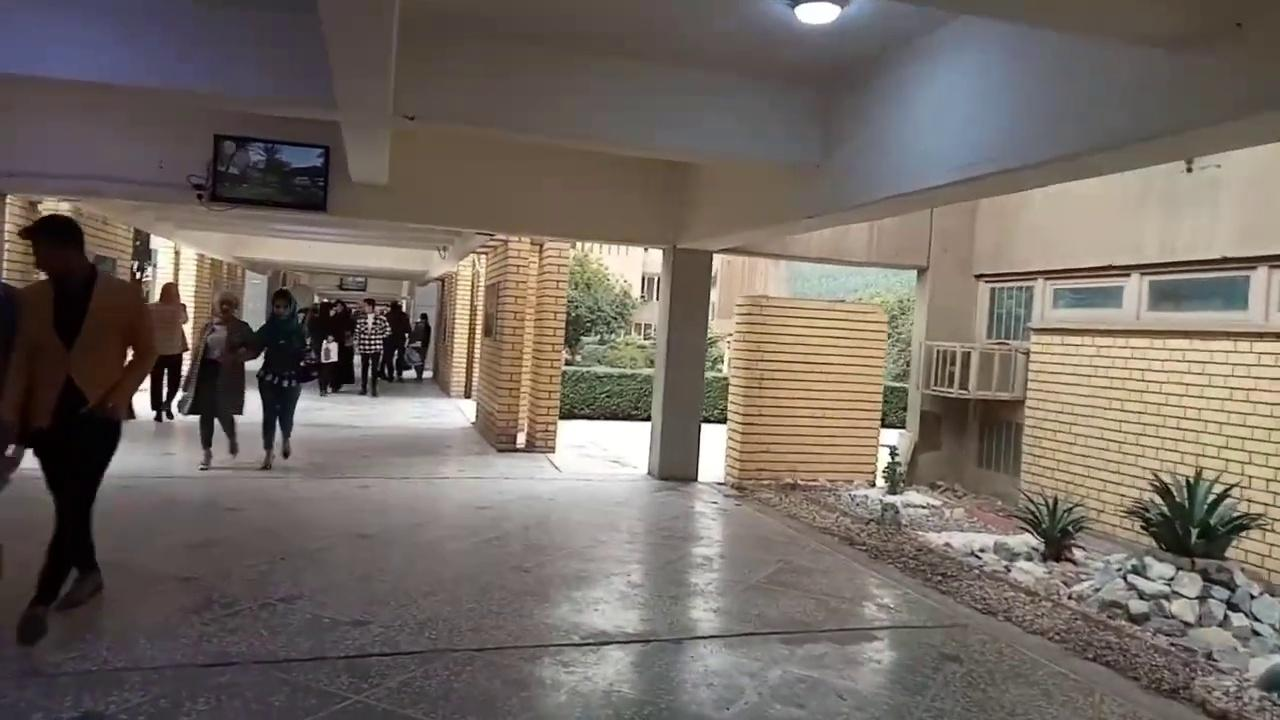person: (0, 212, 159, 646), (178, 289, 256, 470), (234, 287, 308, 470), (145, 282, 189, 422), (408, 312, 431, 381)
tree: (1119, 465, 1269, 563), (853, 282, 916, 428), (565, 247, 637, 357), (1008, 484, 1089, 562), (701, 327, 728, 422), (881, 443, 906, 494)
